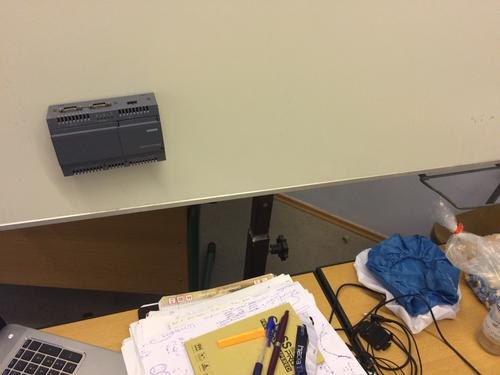iot2000: (46, 92, 168, 178)
